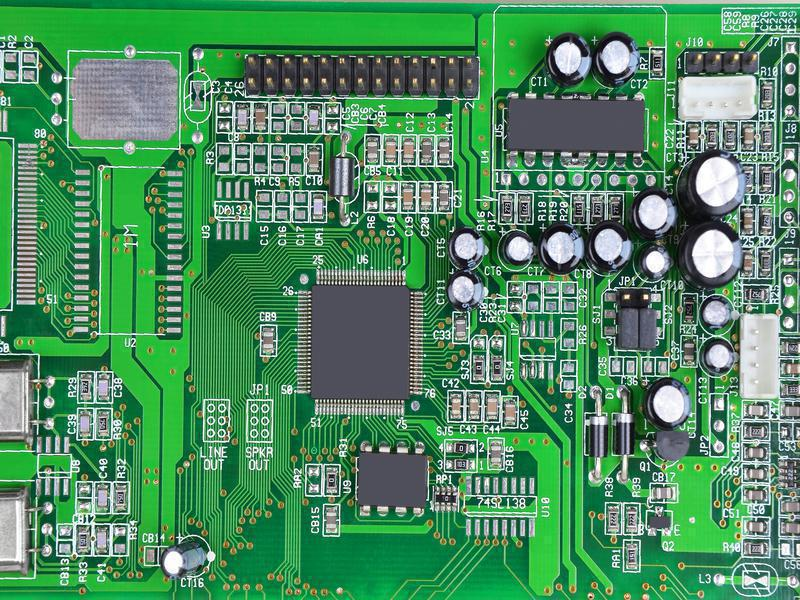SMD capacitor: (740, 206, 756, 235), (77, 411, 92, 440), (490, 439, 504, 469), (98, 484, 110, 516), (503, 401, 517, 428), (745, 401, 766, 419), (402, 139, 417, 164), (262, 327, 274, 358), (746, 445, 769, 461), (97, 376, 110, 404), (682, 337, 696, 363), (655, 485, 674, 504), (747, 488, 769, 504), (385, 137, 397, 166), (421, 137, 433, 166), (420, 187, 433, 213), (439, 140, 451, 168), (485, 397, 498, 422), (455, 316, 467, 343), (745, 518, 766, 533), (742, 469, 768, 481), (255, 106, 266, 134), (781, 521, 800, 537), (403, 185, 415, 209), (450, 393, 461, 419), (468, 394, 479, 420), (744, 122, 754, 149), (744, 248, 753, 278), (781, 500, 800, 514), (689, 123, 700, 147)
SMD resistor: (623, 540, 645, 570), (759, 165, 776, 197), (742, 542, 771, 559), (608, 502, 622, 536), (115, 483, 129, 516), (759, 247, 773, 280), (759, 205, 773, 236), (760, 79, 774, 109), (77, 376, 92, 403), (626, 505, 637, 536), (78, 527, 88, 557), (98, 414, 108, 440)
electrolytic capacitor: (681, 153, 746, 219), (680, 220, 740, 290), (595, 29, 642, 89), (161, 534, 210, 587), (587, 220, 632, 274), (542, 219, 585, 275), (632, 187, 679, 237), (548, 32, 591, 86), (644, 378, 690, 428), (446, 269, 482, 313), (501, 229, 536, 268), (452, 229, 485, 270)
inductor: (331, 150, 355, 221)
